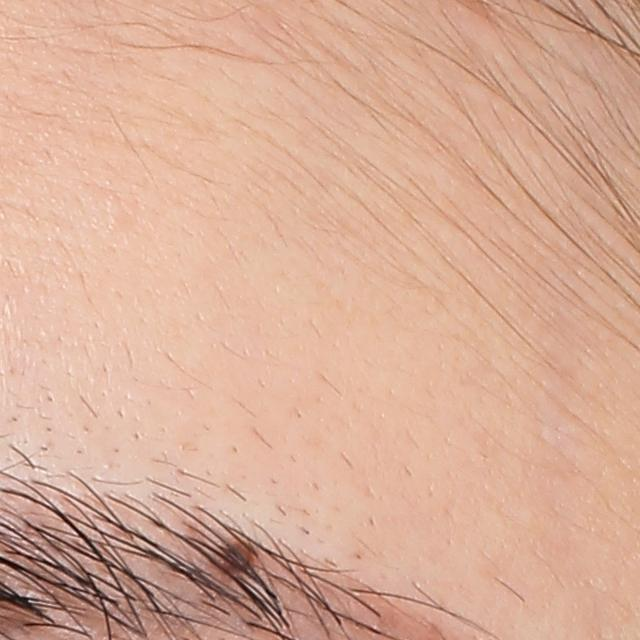nevus: (220, 531, 251, 581)
